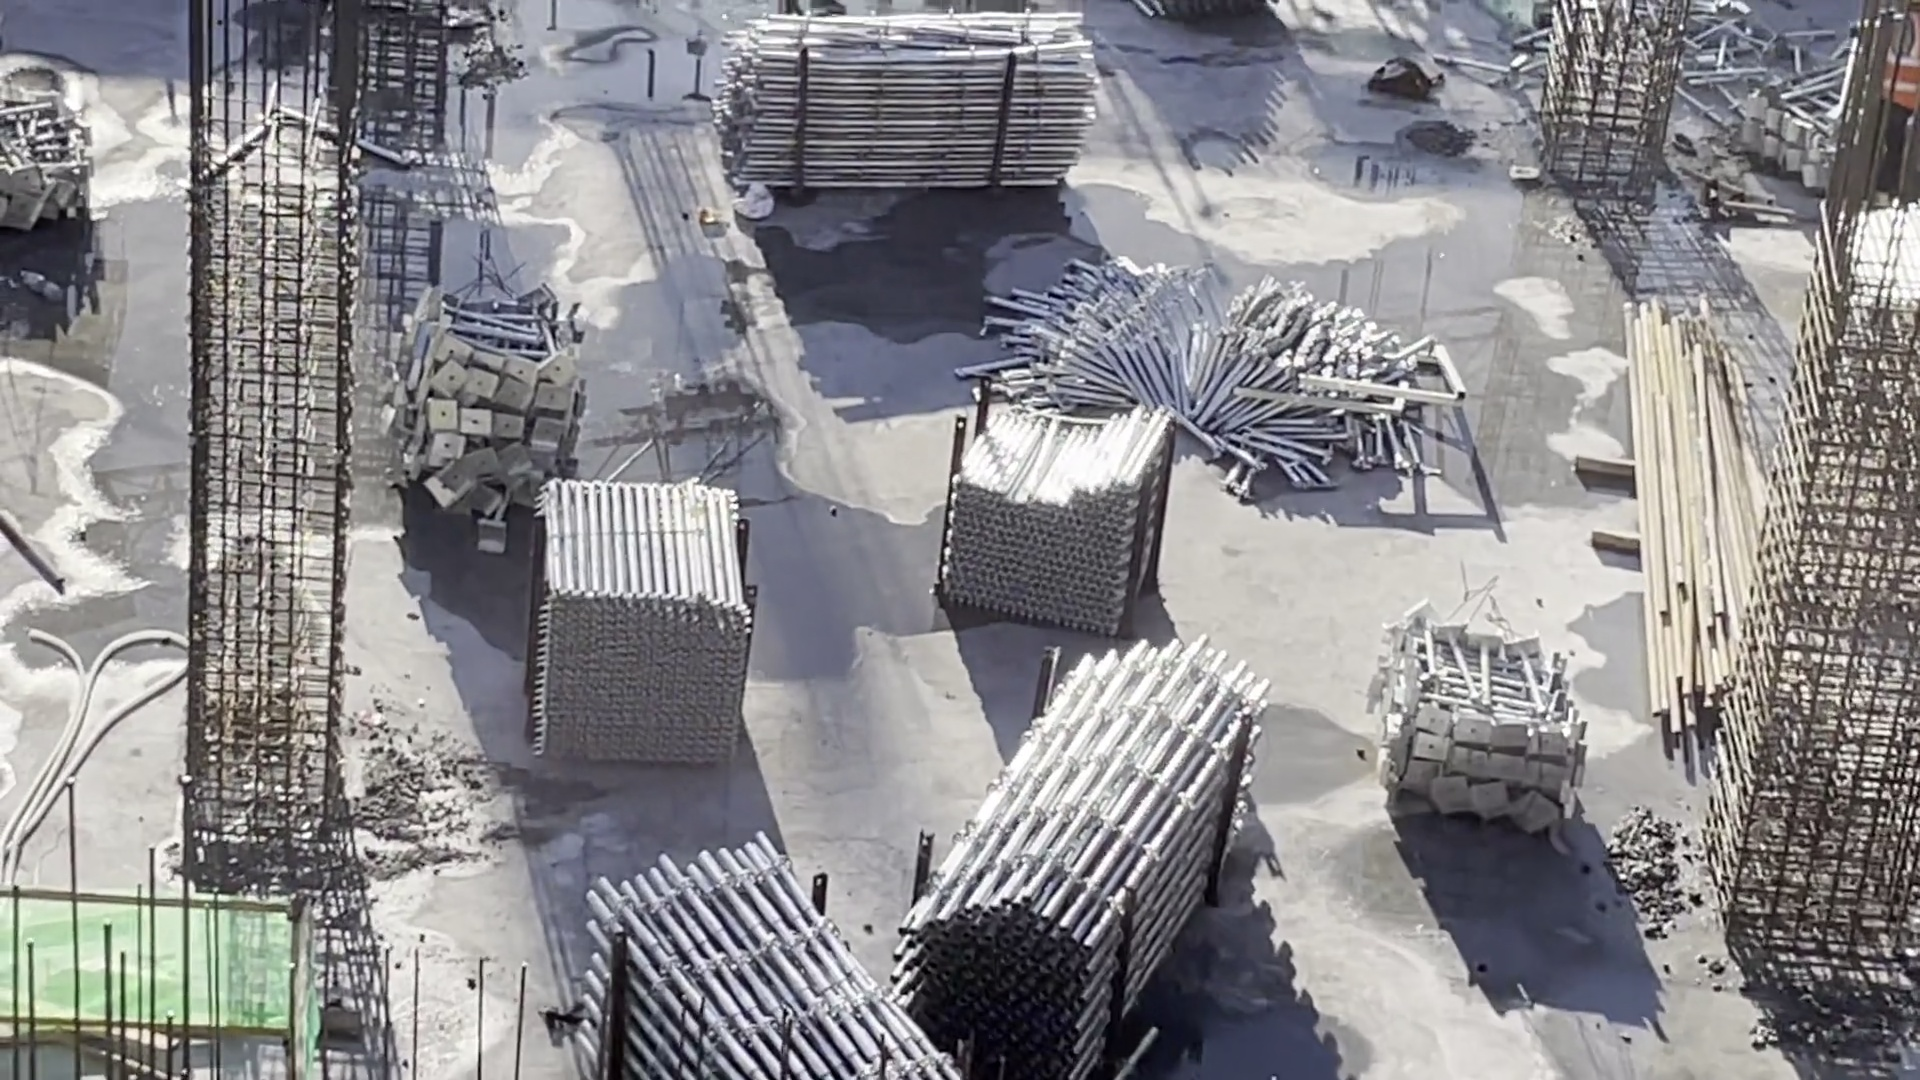scaffold: (920, 646, 1251, 1035), (568, 851, 985, 1080), (702, 11, 1125, 208), (1002, 264, 1425, 460), (527, 479, 775, 767), (1362, 603, 1582, 832), (963, 398, 1160, 603), (401, 299, 588, 513), (1733, 76, 1880, 195), (1, 79, 100, 225)
